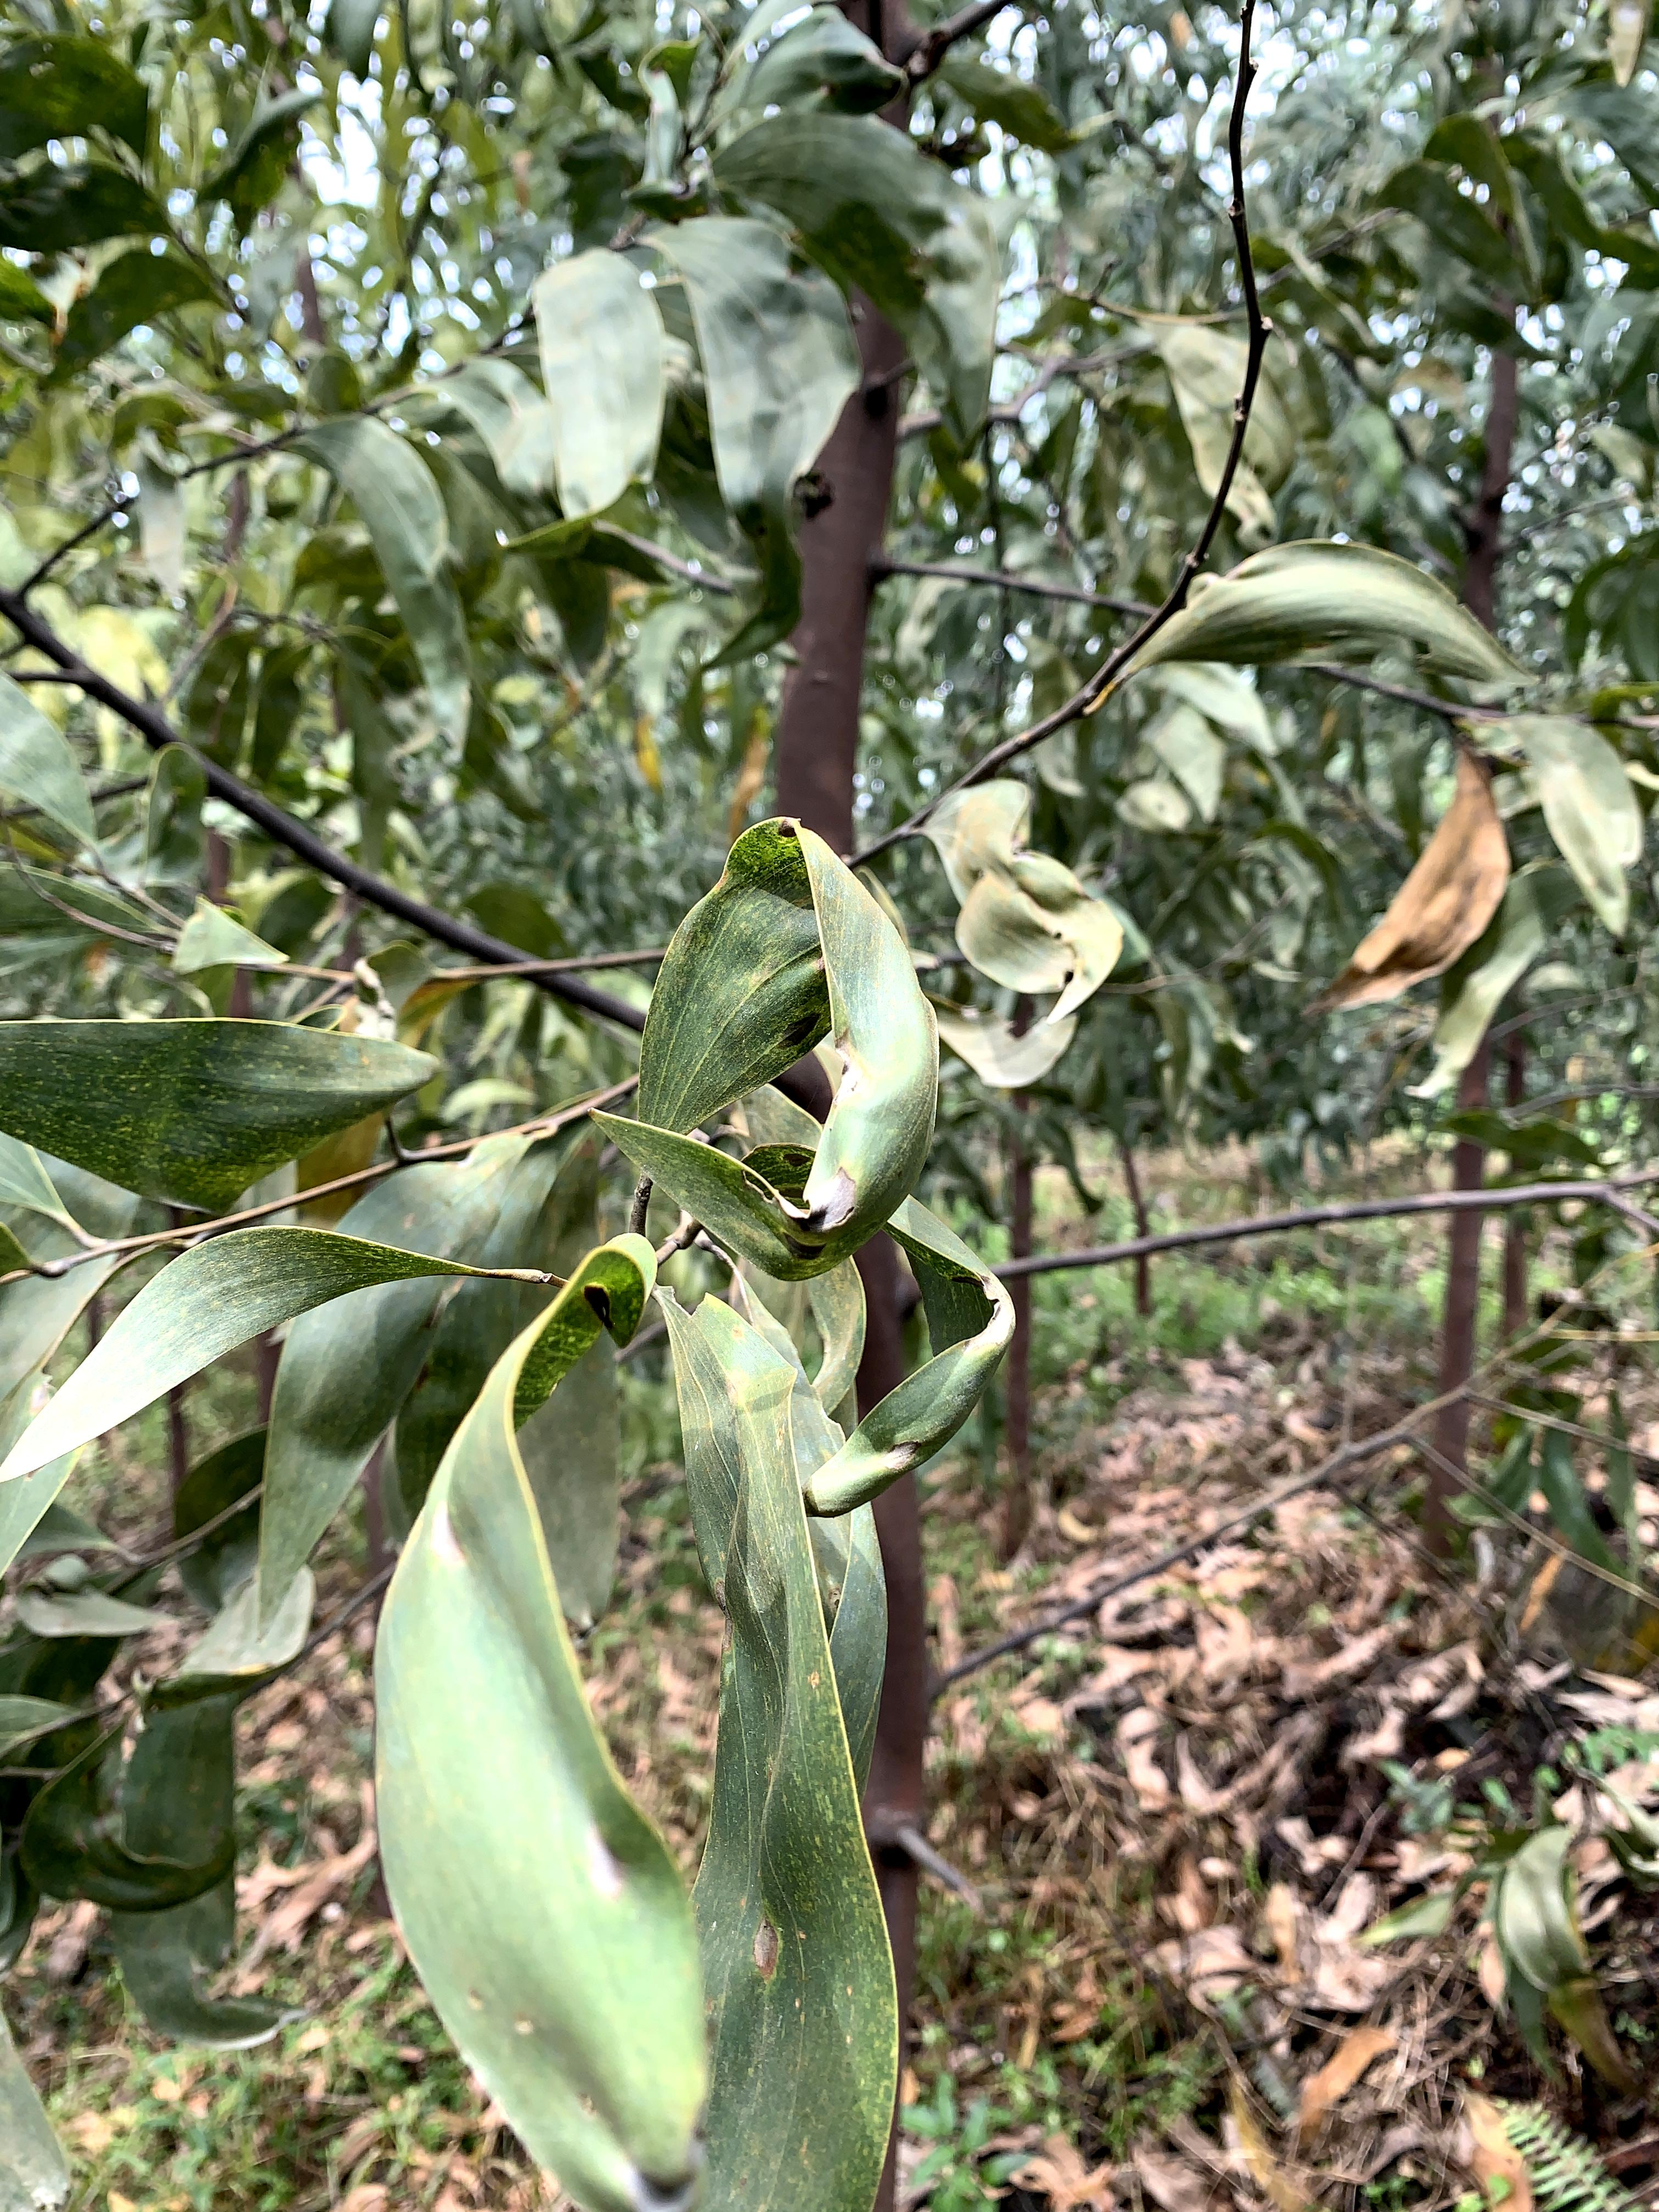Pasalora: (638, 1303, 899, 2212), (638, 855, 938, 1275), (856, 1231, 1049, 1500), (922, 794, 1129, 1000)
